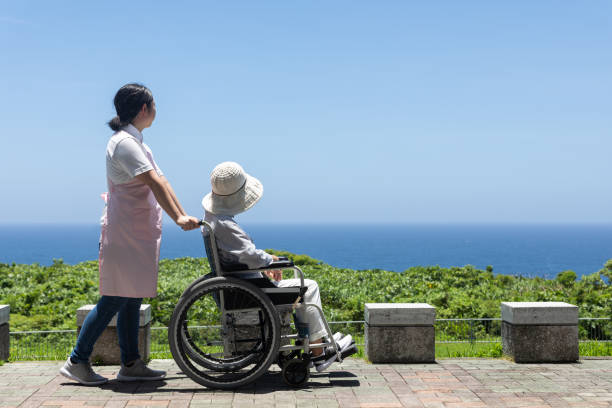wheel_chair: (160, 216, 362, 391)
